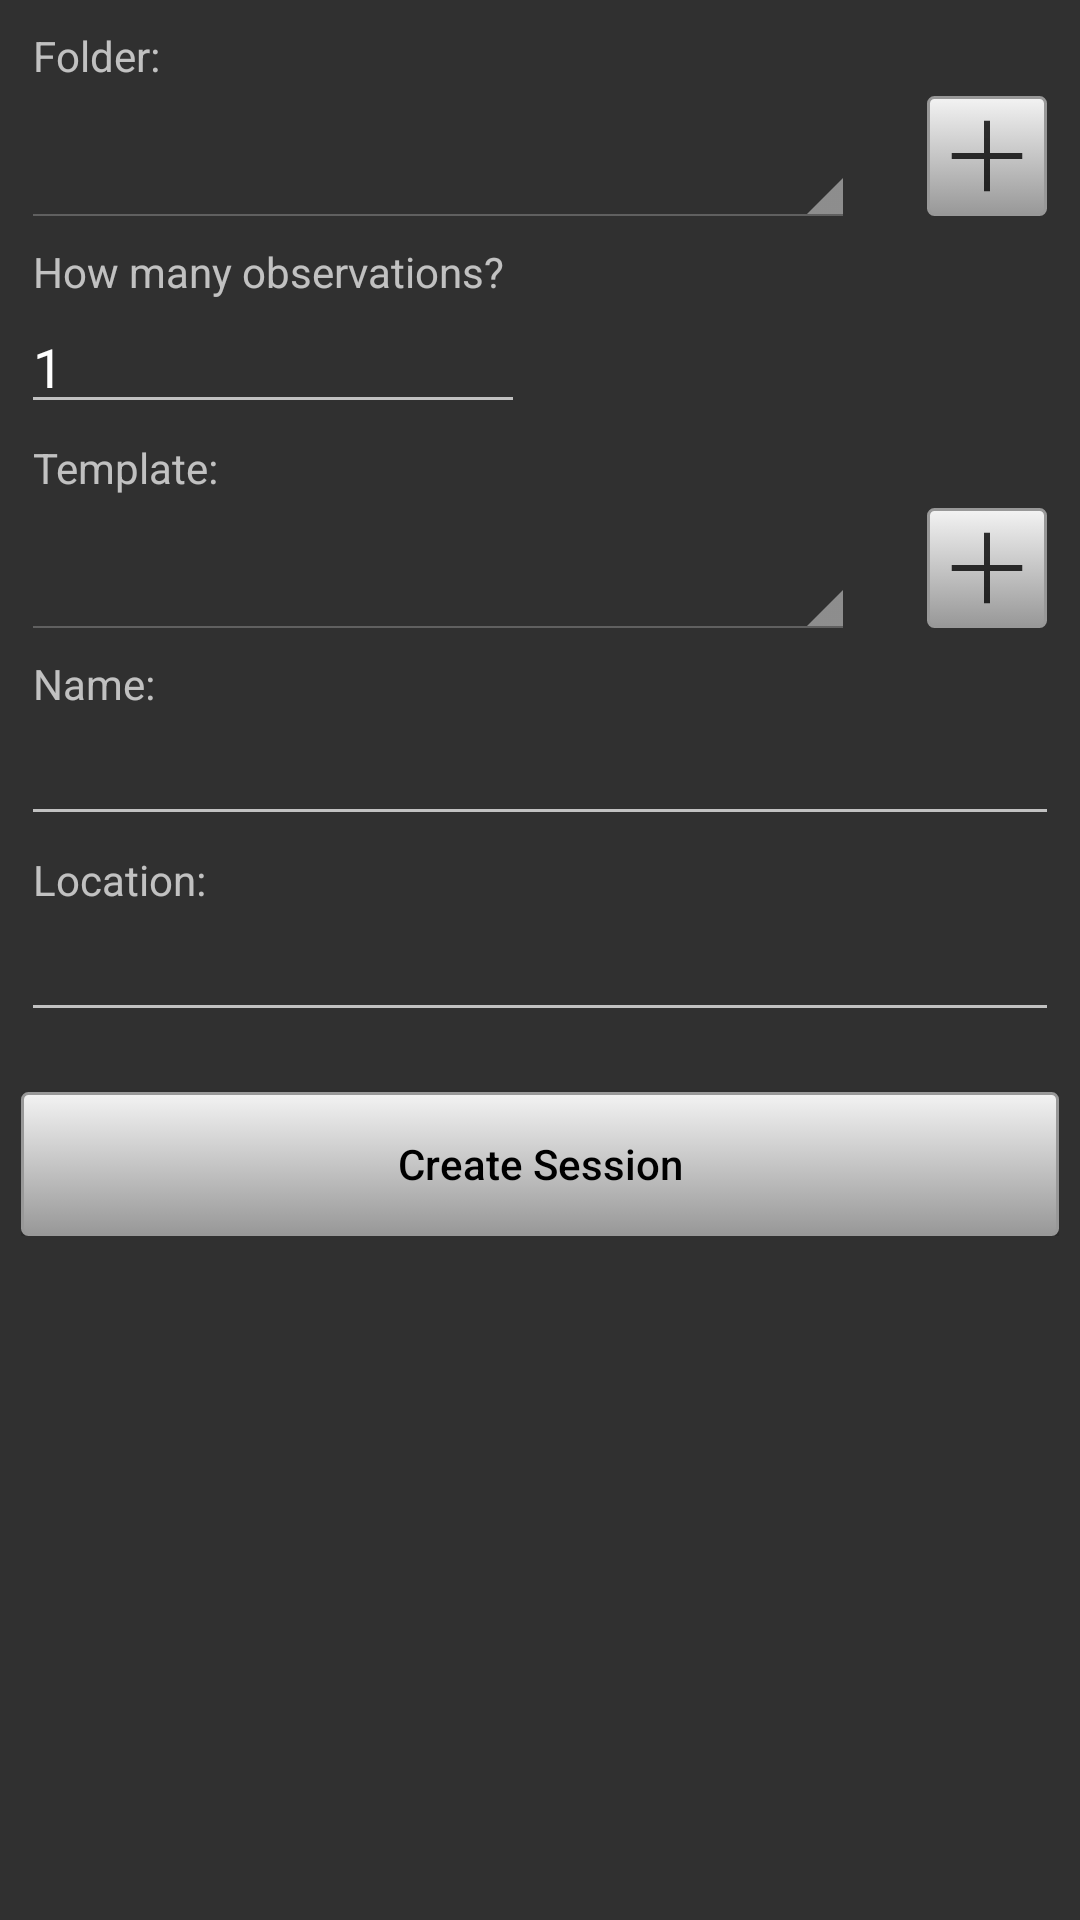

Named icons in this screenshot (1080×1920) and their bounding boxes, (x1, y1, x2, y2):
Create new folder: (927, 96, 1047, 216)
Create new template: (927, 508, 1047, 628)
